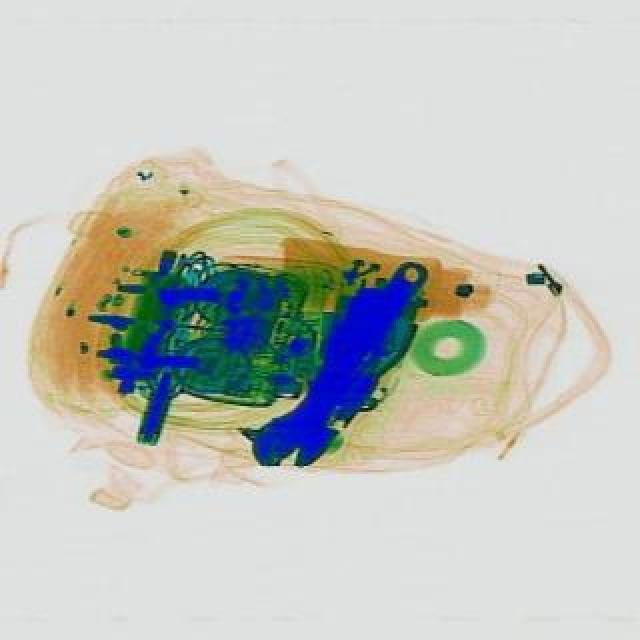scissors: (238, 244, 444, 488)
